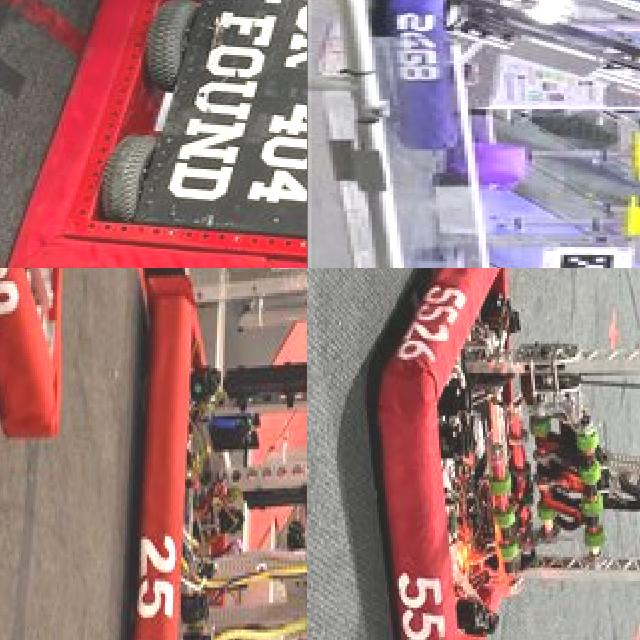FRC-Robots: (350, 268, 640, 640), (15, 0, 307, 268), (122, 268, 307, 640), (376, 0, 640, 135), (0, 268, 97, 489)
